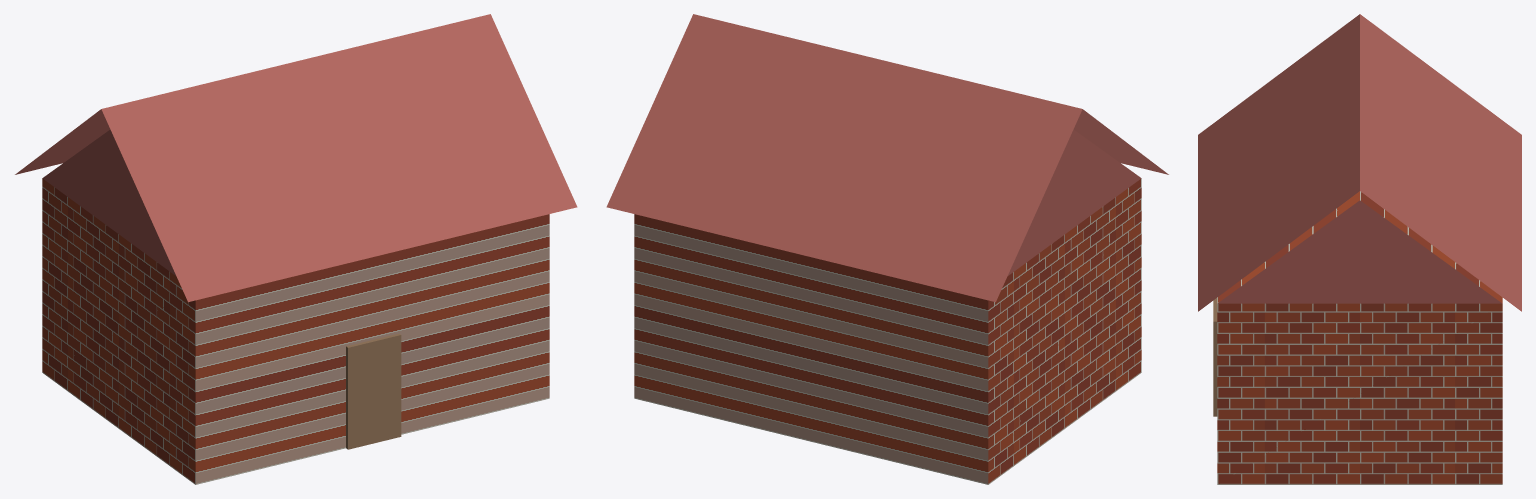
File: house.glb
3 renders of one model, left to right at view 1: azimuth 30°, elevation 25°; view 2: azimuth 150°, elevation 25°; view 3: azimuth 270°, elevation 25°, orthographic. The views are drawn at different scales.
Parts seen in each view (by area): view 1: house_roof, house_walls, house_door; view 2: house_walls, house_roof; view 3: house_roof, house_walls, house_door.
Boxes of the visible parts, x1,y1,x2,y2 form: house_roof: (15,14,577,302); house_walls: (42,178,549,484); house_door: (346,333,401,449); house_walls: (634,178,1141,484); house_roof: (606,14,1168,302); house_roof: (1198,14,1521,311); house_walls: (1217,191,1502,484); house_door: (1213,298,1217,416).
Size of the model in its own units: 8.8 by 7 by 6.8.
3 materials, 1 textured.
